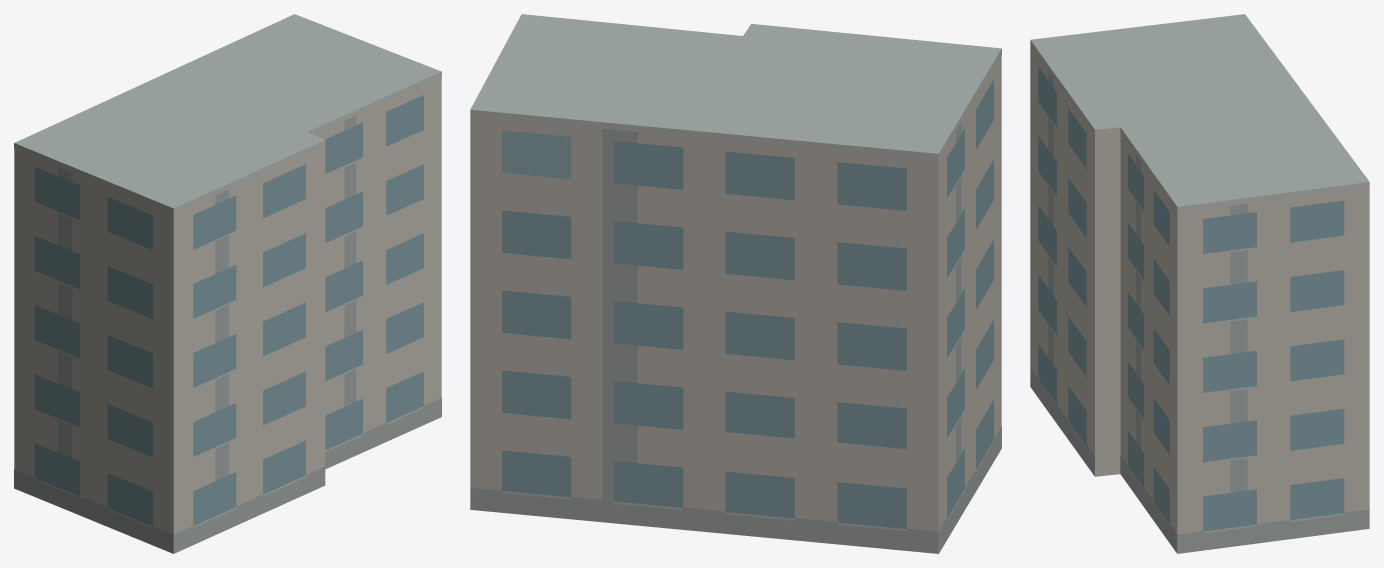
File: survey-upis-32837697.glb
3 views of the same model, side by side, from view 1: azimuth 30°, elevation 25°; view 2: azimuth 150°, elevation 25°; view 3: azimuth 270°, elevation 25° (orthographic). The views are drawn at different scales.
Parts seen in each view (by area): view 1: survey-upis-32837697.tmp; view 2: survey-upis-32837697.tmp; view 3: survey-upis-32837697.tmp.
Part boxes in pixels (box(x1,y1,x2,y2)): survey-upis-32837697.tmp: box(14, 14, 441, 553); survey-upis-32837697.tmp: box(470, 14, 1001, 553); survey-upis-32837697.tmp: box(1030, 14, 1369, 553).
Size of the model in its own units: 17.31 by 14.5 by 12.87.
